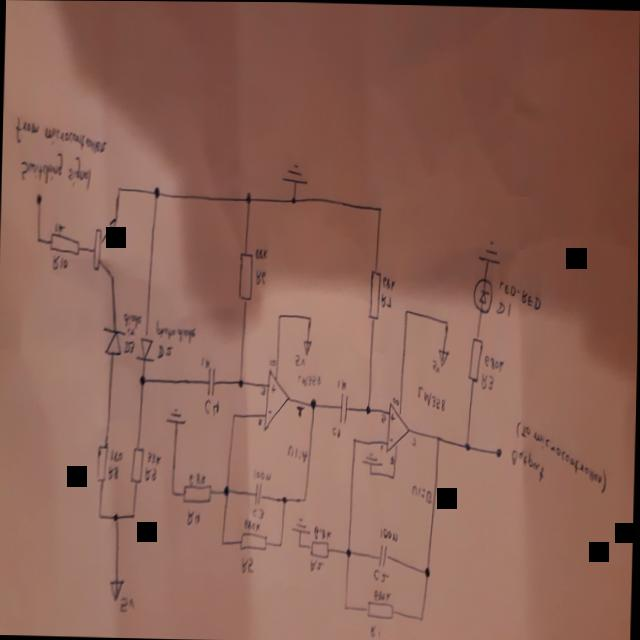capacitor: (339, 391, 350, 426), (206, 367, 217, 397), (254, 482, 264, 509), (378, 542, 388, 568)
diode: (472, 274, 494, 315), (101, 325, 126, 359), (135, 335, 157, 365)
ground: (477, 240, 501, 266), (281, 163, 308, 186), (166, 408, 186, 427), (291, 517, 312, 535), (362, 451, 384, 467)
junction: (223, 485, 230, 498), (139, 374, 146, 387), (245, 191, 251, 204), (365, 403, 371, 416), (289, 195, 296, 206), (346, 546, 352, 558), (465, 440, 471, 452), (425, 566, 431, 578), (113, 513, 119, 524), (281, 495, 287, 506), (310, 400, 316, 410), (154, 186, 159, 197), (435, 433, 440, 443), (239, 378, 243, 388), (131, 512, 136, 520), (172, 488, 176, 498), (404, 306, 408, 316), (378, 205, 382, 214), (37, 235, 41, 244), (445, 319, 449, 328), (391, 473, 395, 482), (278, 312, 282, 321), (232, 411, 236, 420), (353, 437, 357, 445), (279, 540, 283, 548), (344, 603, 348, 611), (98, 512, 102, 520), (221, 538, 225, 546), (420, 614, 424, 622), (117, 186, 121, 194), (303, 496, 307, 504), (308, 315, 312, 323), (369, 469, 373, 477), (298, 542, 302, 548)
resistor: (49, 232, 81, 259), (467, 334, 484, 384), (238, 251, 254, 303), (368, 268, 381, 320), (183, 482, 212, 505), (240, 531, 268, 553), (367, 600, 395, 622), (131, 446, 146, 486), (96, 442, 109, 484), (310, 539, 330, 559)
source: (109, 578, 125, 602), (438, 347, 449, 367), (303, 339, 311, 355)
terminal: (497, 445, 503, 458), (36, 193, 42, 204)
text: (515, 420, 608, 494), (13, 115, 108, 154), (20, 152, 92, 194), (155, 316, 197, 347), (498, 280, 541, 310), (511, 447, 546, 483), (417, 381, 446, 413), (411, 483, 433, 504), (483, 354, 505, 374), (287, 444, 307, 464), (380, 523, 399, 542), (297, 373, 321, 388), (122, 312, 142, 328), (157, 343, 174, 360), (254, 468, 272, 484), (204, 397, 220, 415), (188, 471, 207, 486), (314, 525, 333, 540), (240, 555, 254, 575), (51, 254, 68, 270), (244, 518, 262, 533), (482, 372, 495, 392), (310, 557, 326, 573), (120, 596, 135, 613), (373, 568, 390, 583), (187, 509, 201, 527), (144, 464, 158, 482), (374, 589, 393, 602), (147, 450, 162, 466), (382, 275, 396, 291), (110, 448, 124, 464), (108, 464, 120, 482), (255, 268, 267, 286), (254, 246, 268, 261), (498, 301, 511, 317), (53, 221, 66, 237), (123, 339, 136, 355), (380, 293, 392, 309), (370, 623, 382, 639), (252, 506, 265, 520), (336, 377, 348, 392), (331, 425, 342, 440), (431, 359, 441, 375), (201, 355, 211, 369), (127, 325, 137, 339), (295, 355, 305, 368), (296, 403, 304, 417), (392, 394, 400, 407), (269, 357, 277, 367), (389, 453, 395, 466), (381, 412, 387, 424), (261, 385, 267, 397), (411, 435, 417, 447), (258, 415, 262, 426), (380, 443, 384, 453), (272, 384, 276, 394), (389, 436, 393, 444), (392, 414, 396, 422), (268, 408, 272, 415)
transistor: (90, 216, 118, 280)
